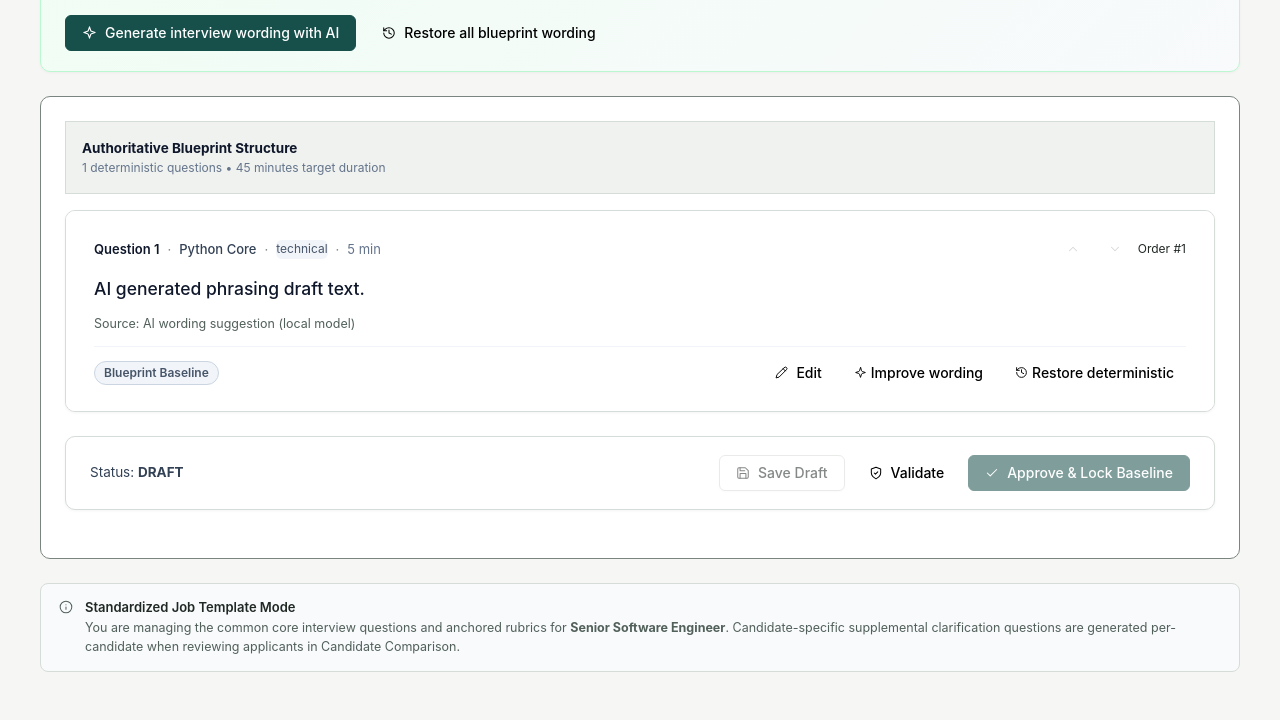
it: Phase 3D.1 Template Repairs and Simulation Workspace Tests › PART A2: Restore deterministic handles 409 conflict by reloading latest version
(page scrolled)
Check: the text "Question 1" is shown, box [94,239,160,259]
Click the button titled "Restore original deterministic baseline wording".
click(1094, 373)  # box [1003,357,1186,389]
(page scrolled)
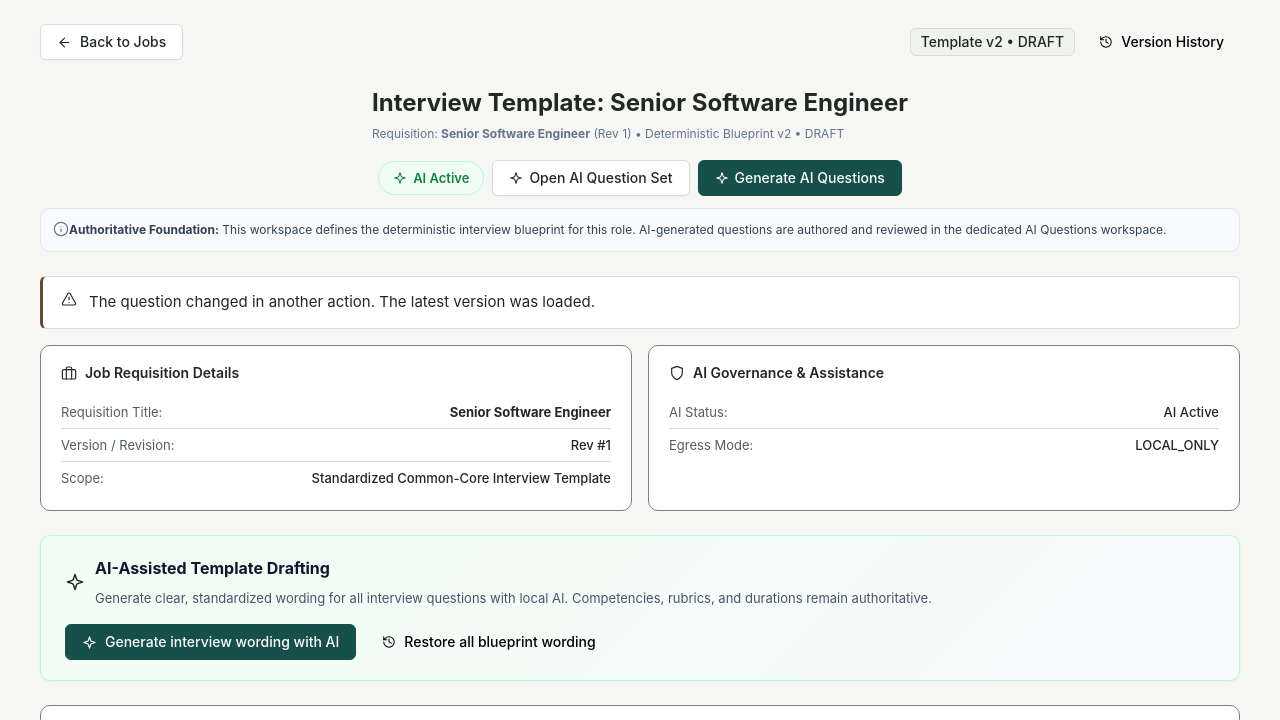
Check: the text "The question changed in another action. The latest version was loaded." is shown, box [89,291,595,314]
